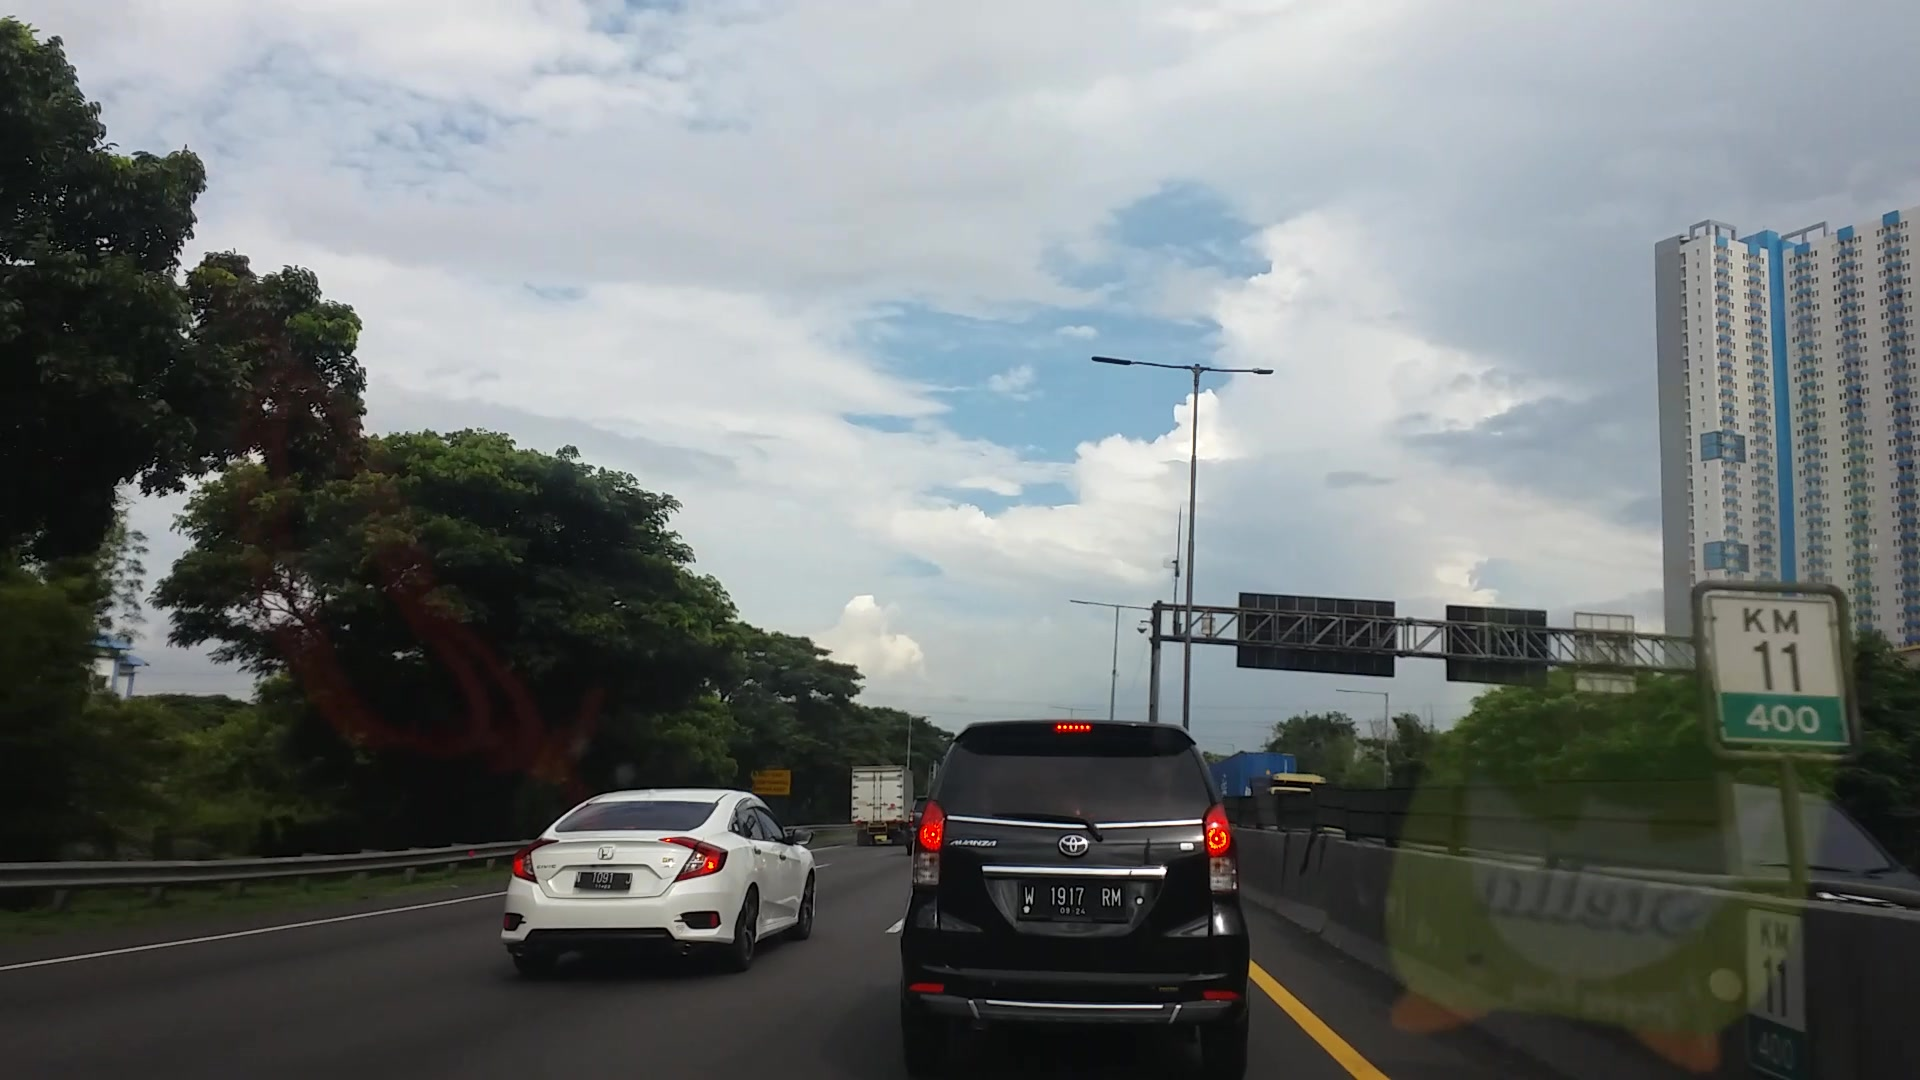plate_positive: (1019, 882, 1124, 918)
